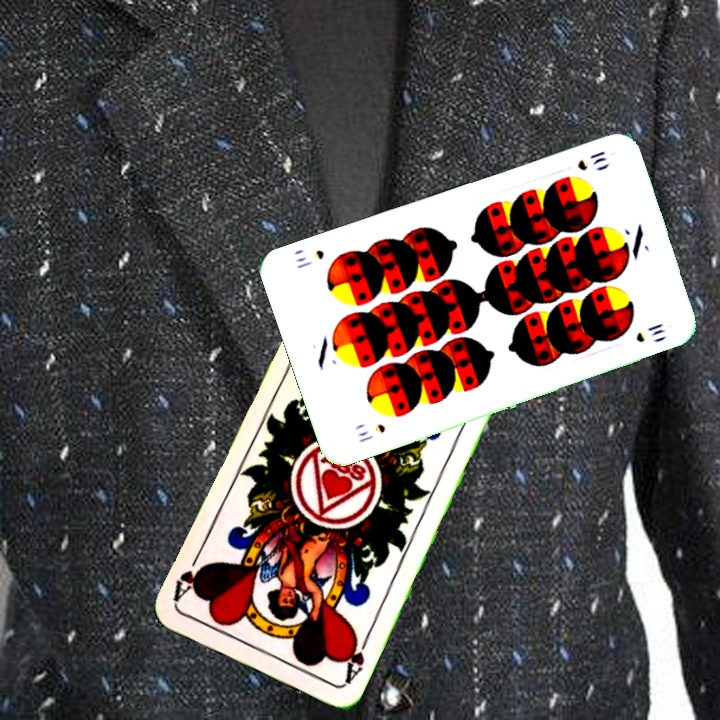HA: (338, 629, 372, 686)
S10: (573, 147, 609, 173), (354, 419, 388, 446)
